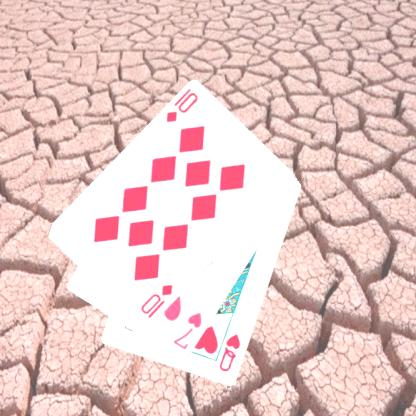10D: (163, 86, 200, 124), (138, 282, 174, 320)
7H: (170, 309, 204, 352)
QH: (216, 331, 242, 374)
